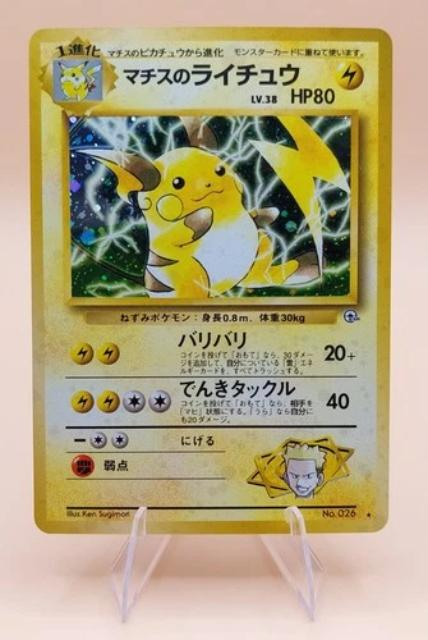Card: (23, 21, 397, 539)
Name: (119, 60, 312, 89)
